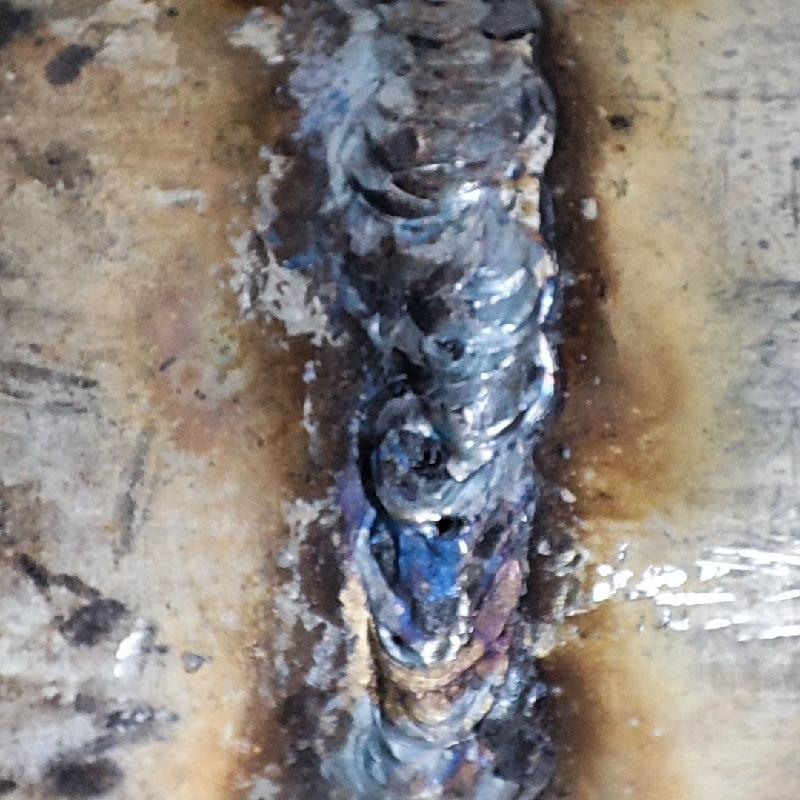Surface_pores: (426, 502, 469, 555)
